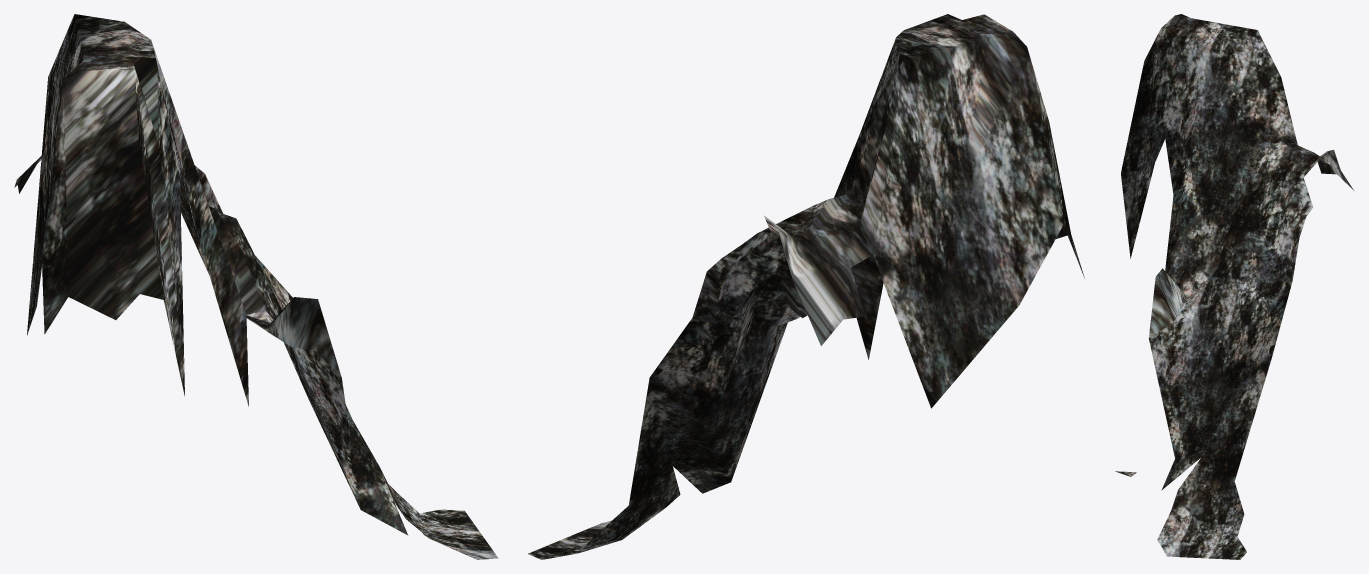
The model's file is OVERHILL_A_01_MOUN1_OBJECT152.fbx.
3 views of the same model, side by side, from view 1: azimuth 30°, elevation 25°; view 2: azimuth 150°, elevation 25°; view 3: azimuth 270°, elevation 25° (orthographic). The views are drawn at different scales.
Visible parts, largest first — view 1: OVERHILL_A_01_MOUN1_OBJECT152; view 2: OVERHILL_A_01_MOUN1_OBJECT152; view 3: OVERHILL_A_01_MOUN1_OBJECT152.
Part boxes in pixels (x1,y1,x2,y2): OVERHILL_A_01_MOUN1_OBJECT152: (14,14,498,559); OVERHILL_A_01_MOUN1_OBJECT152: (528,14,1084,559); OVERHILL_A_01_MOUN1_OBJECT152: (1115,14,1353,559).
Size of the model in its own units: 289369 by 336103 by 180308.
1 material, 1 textured.
